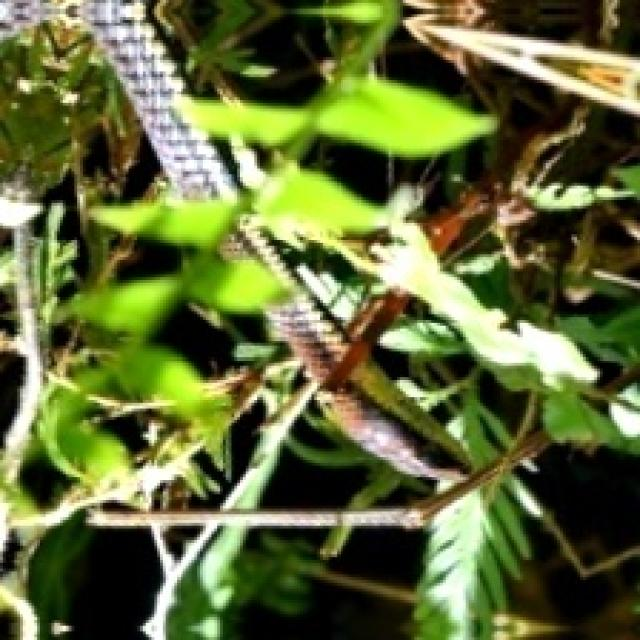philippine bronzeback treesnake: (81, 0, 231, 197), (316, 361, 469, 482), (269, 290, 349, 381), (222, 226, 292, 279)
